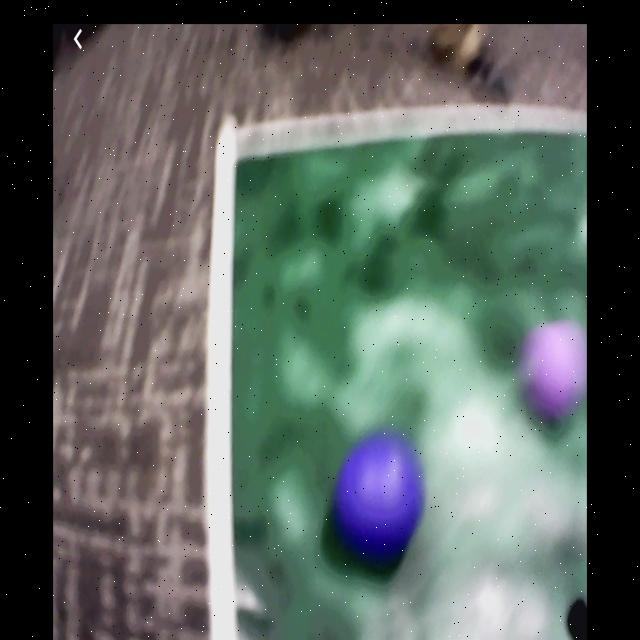ball: (337, 438, 421, 552), (527, 324, 582, 414)
